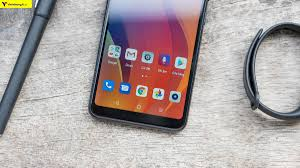vsmart: (86, 1, 218, 136)
